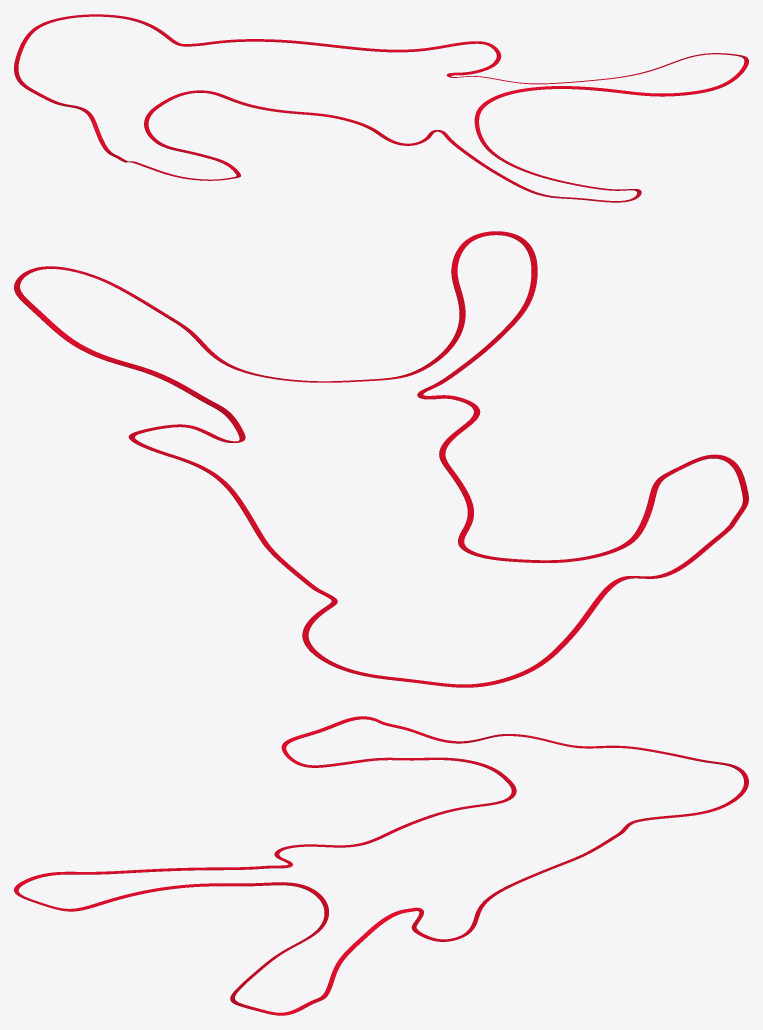
File: Pista Calamardo 2.0.fbx
3 views of the same model, one above another, from view 1: azimuth 30°, elevation 25°; view 2: azimuth 150°, elevation 25°; view 3: azimuth 270°, elevation 25° (orthographic). The views are drawn at different scales.
Visible parts, largest first — view 1: Pista Original.001; view 2: Pista Original.001; view 3: Pista Original.001.
Part boxes in pixels (<box>): Pista Original.001: <box>14,14,748,202</box>; Pista Original.001: <box>14,231,748,687</box>; Pista Original.001: <box>14,716,748,1015</box>.
Size of the model in its own units: 417206 by 17305 by 435101.
